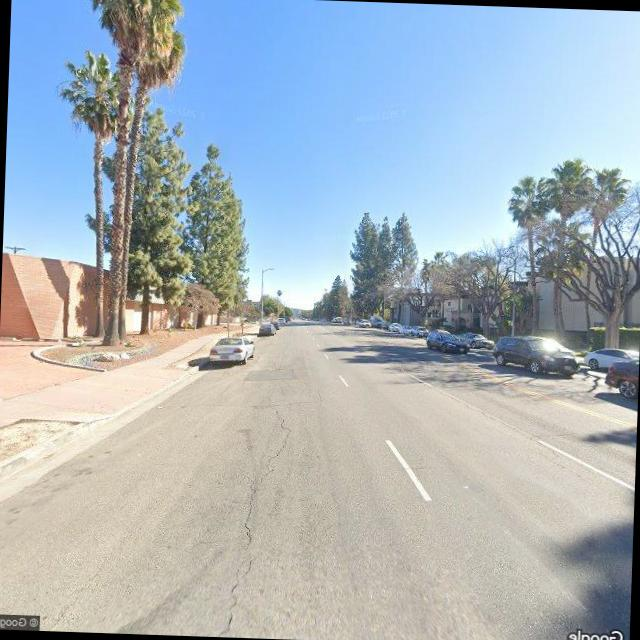crack: (213, 402, 295, 636)
